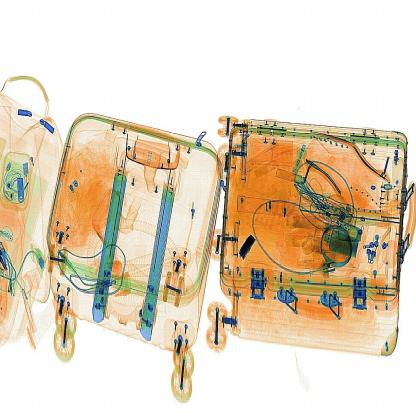scissors: (237, 231, 258, 264)
